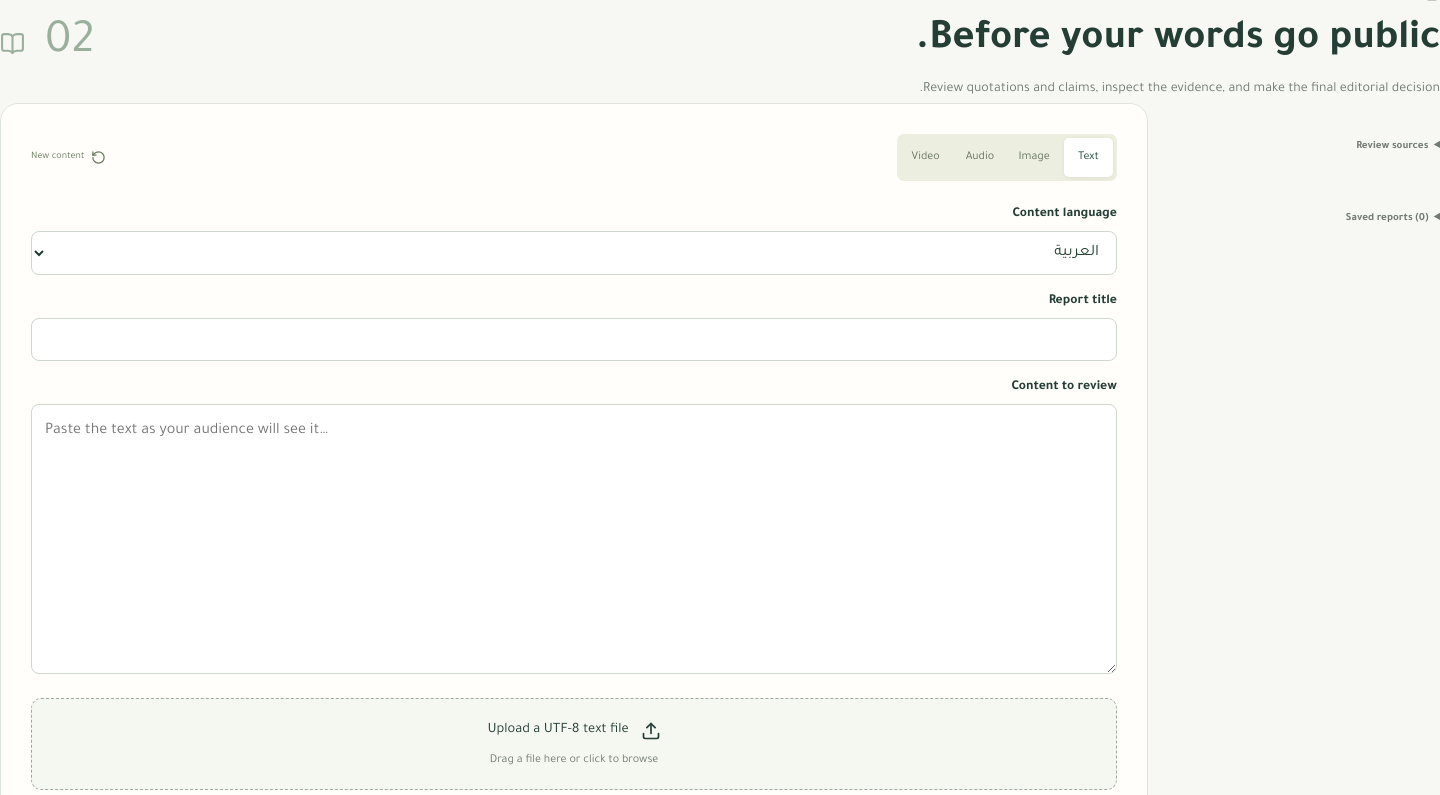
Test: retains content and offers the same review action again if tuple extraction fails
Type "112:1 «قل هو الله واحد»" into the text box labelled "Content to review". click: (574, 539)
box: [31,404,1117,674]
(page scrolled)
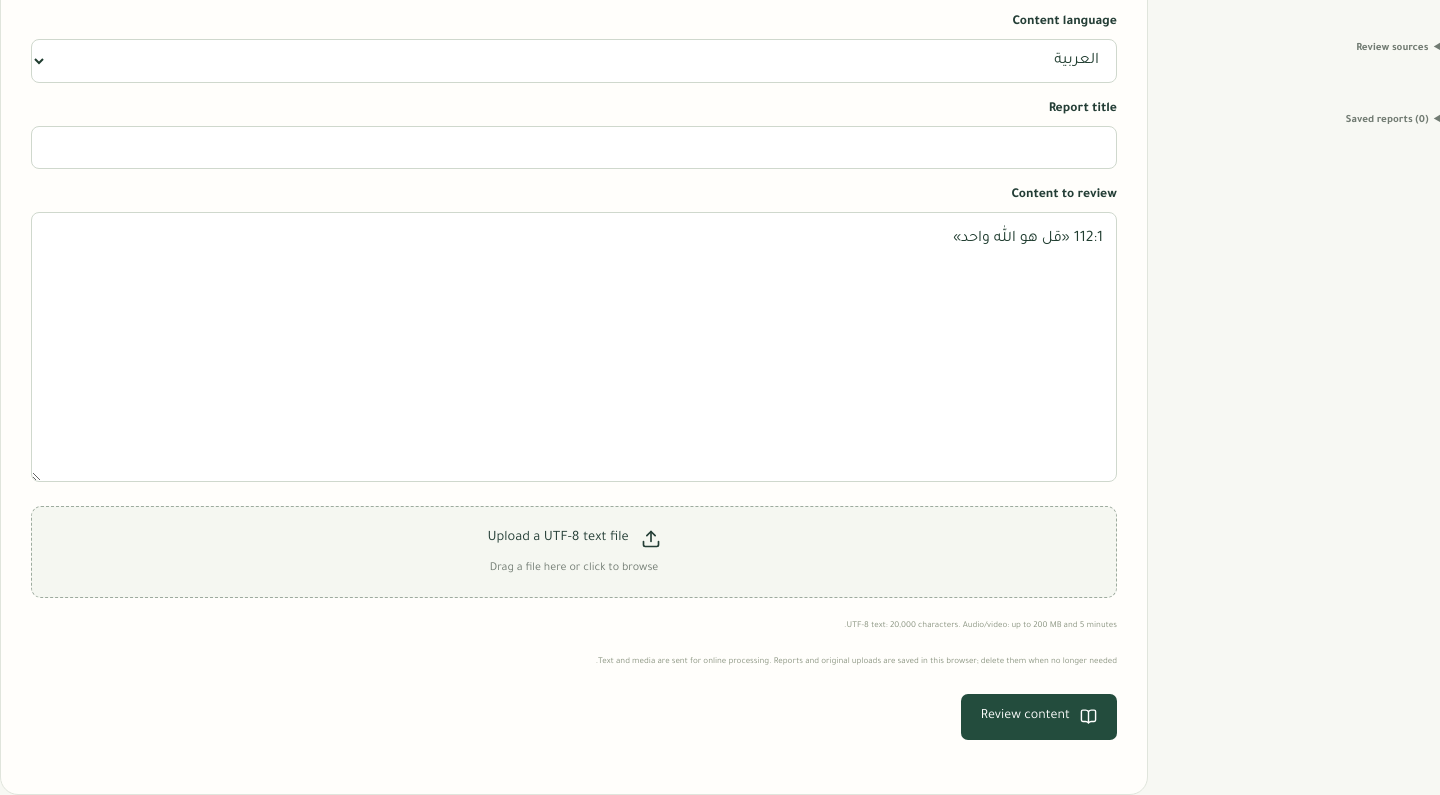
Click the button "Review content". click: (1039, 717)
box: [961,694,1117,740]
(page scrolled)
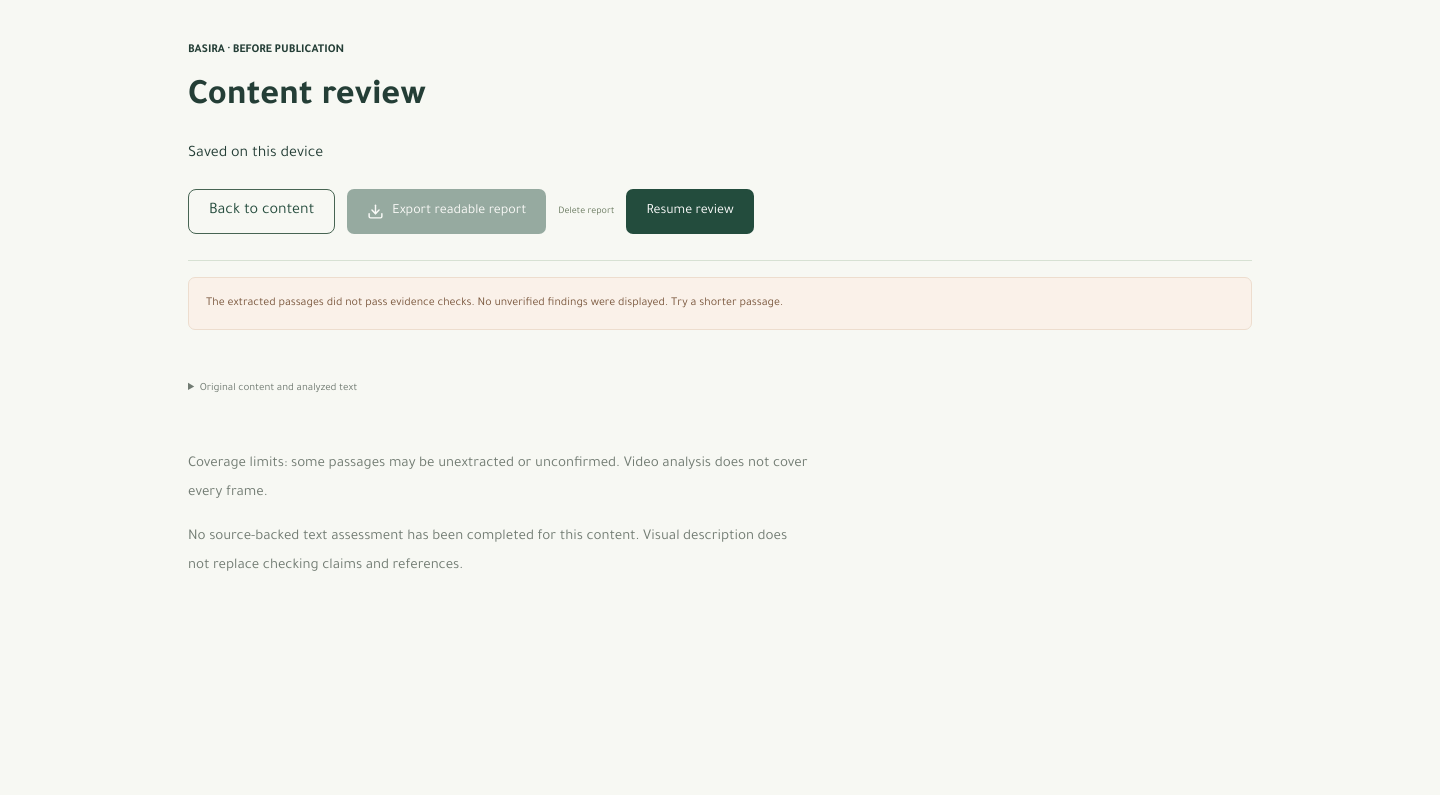
Now the message is shown, box [188,277,1252,330]
Now the button "Export readable report" is disabled, box [347,189,546,234]
Now the button "Resume review" is enabled, box [626,189,754,234]
